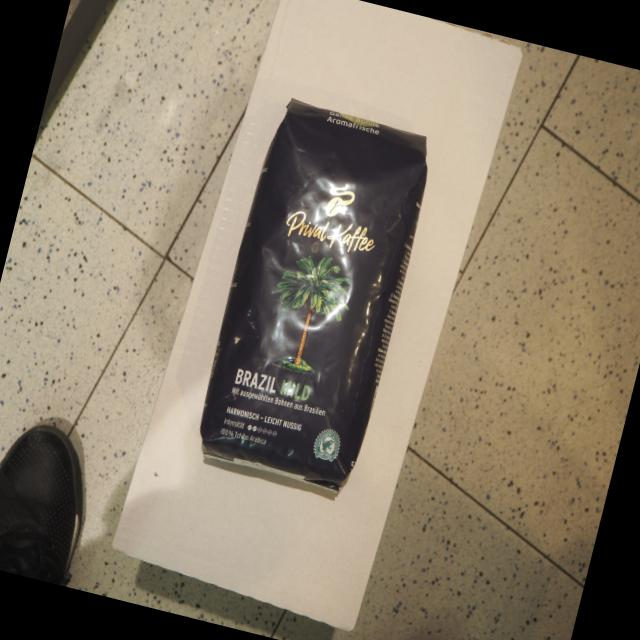BM Bohne: (184, 92, 443, 508)
